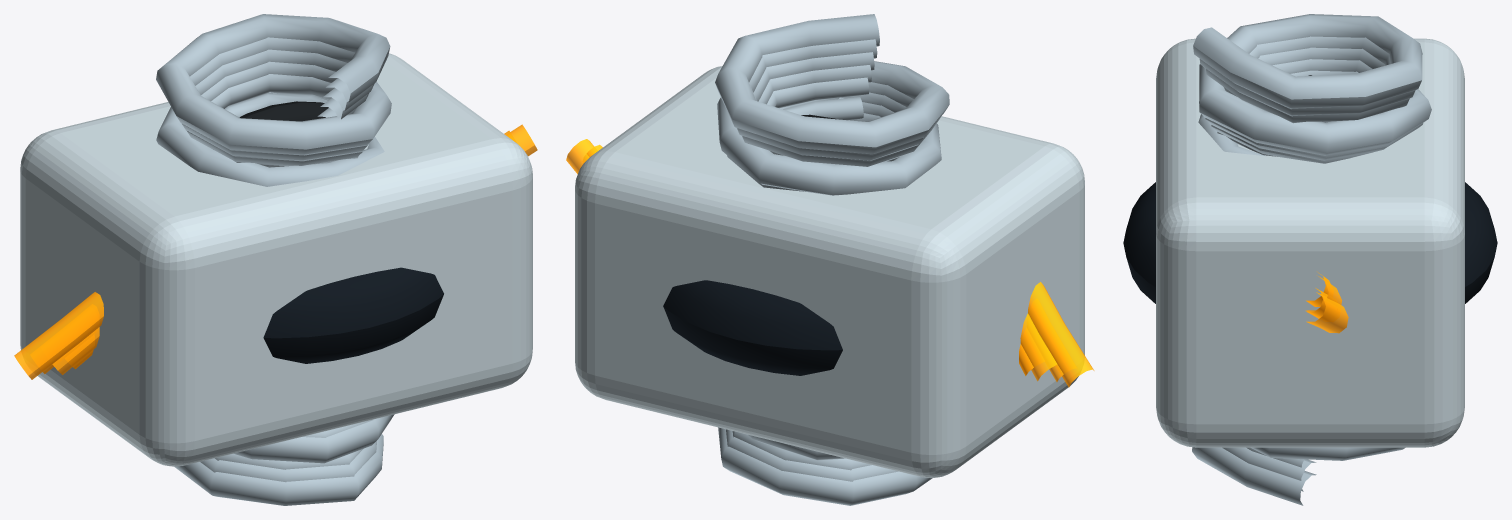
The model's file is remaining_systems_05.glb.
3 renders of one model, left to right at view 1: azimuth 30°, elevation 25°; view 2: azimuth 150°, elevation 25°; view 3: azimuth 270°, elevation 25°, orthographic.
Parts seen in each view (by area): view 1: asset_mesh__remaining_systems_0512__reference_body, asset_mesh__remaining_systems_0593__coil_spring, asset_mesh__remaining_systems_0574__tire, asset_mesh__remaining_systems_0583__coil_spring, asset_mesh__remaining_systems_0582__coil_spring, asset_mesh__remaining_systems_0619__fluid_path, asset_mesh__remaining_systems_0580__coil_spring, asset_mesh__remaining_systems_0581__coil_spring, asset_mesh__remaining_systems_0530__service_element, asset_mesh__remaining_systems_0551__coil_spring, asset_mesh__remaining_systems_0626__fluid_path; view 2: asset_mesh__remaining_systems_0512__reference_body, asset_mesh__remaining_systems_0593__coil_spring, asset_mesh__remaining_systems_0574__tire, asset_mesh__remaining_systems_0583__coil_spring, asset_mesh__remaining_systems_0582__coil_spring, asset_mesh__remaining_systems_0619__fluid_path, asset_mesh__remaining_systems_0580__coil_spring, asset_mesh__remaining_systems_0581__coil_spring, asset_mesh__remaining_systems_0551__coil_spring, asset_mesh__remaining_systems_0626__fluid_path; view 3: asset_mesh__remaining_systems_0512__reference_body, asset_mesh__remaining_systems_0593__coil_spring, asset_mesh__remaining_systems_0574__tire, asset_mesh__remaining_systems_0583__coil_spring, asset_mesh__remaining_systems_0582__coil_spring, asset_mesh__remaining_systems_0581__coil_spring, asset_mesh__remaining_systems_0619__fluid_path.
Boxes of the visible parts, <box> form: asset_mesh__remaining_systems_0512__reference_body: <box>20,53,532,466</box>; asset_mesh__remaining_systems_0593__coil_spring: <box>156,14,394,505</box>; asset_mesh__remaining_systems_0574__tire: <box>263,267,443,363</box>; asset_mesh__remaining_systems_0583__coil_spring: <box>182,37,376,482</box>; asset_mesh__remaining_systems_0582__coil_spring: <box>187,49,368,469</box>; asset_mesh__remaining_systems_0619__fluid_path: <box>14,124,537,379</box>; asset_mesh__remaining_systems_0580__coil_spring: <box>211,74,336,117</box>; asset_mesh__remaining_systems_0581__coil_spring: <box>201,61,358,167</box>; asset_mesh__remaining_systems_0530__service_element: <box>239,101,328,121</box>; asset_mesh__remaining_systems_0551__coil_spring: <box>225,93,327,117</box>; asset_mesh__remaining_systems_0626__fluid_path: <box>52,327,99,374</box>; asset_mesh__remaining_systems_0512__reference_body: <box>575,66,1084,477</box>; asset_mesh__remaining_systems_0593__coil_spring: <box>715,14,949,505</box>; asset_mesh__remaining_systems_0574__tire: <box>663,280,842,375</box>; asset_mesh__remaining_systems_0583__coil_spring: <box>726,39,940,481</box>; asset_mesh__remaining_systems_0582__coil_spring: <box>732,52,934,470</box>; asset_mesh__remaining_systems_0619__fluid_path: <box>566,139,1094,387</box>; asset_mesh__remaining_systems_0580__coil_spring: <box>767,77,880,121</box>; asset_mesh__remaining_systems_0581__coil_spring: <box>758,65,901,161</box>; asset_mesh__remaining_systems_0551__coil_spring: <box>783,97,863,120</box>; asset_mesh__remaining_systems_0626__fluid_path: <box>1020,313,1057,381</box>; asset_mesh__remaining_systems_0512__reference_body: <box>1156,38,1464,447</box>; asset_mesh__remaining_systems_0593__coil_spring: <box>1192,14,1431,505</box>; asset_mesh__remaining_systems_0574__tire: <box>1123,182,1497,303</box>; asset_mesh__remaining_systems_0583__coil_spring: <box>1199,36,1423,491</box>; asset_mesh__remaining_systems_0582__coil_spring: <box>1206,47,1409,467</box>; asset_mesh__remaining_systems_0581__coil_spring: <box>1217,59,1372,156</box>; asset_mesh__remaining_systems_0619__fluid_path: <box>1306,292,1348,333</box>.
Size of the model in its own units: 1.64 by 1.31 by 1.02.
